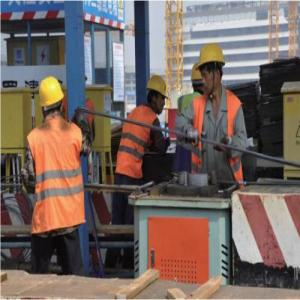yellow: (198, 43, 225, 95), (39, 77, 66, 121), (144, 74, 168, 117), (191, 63, 206, 94)
